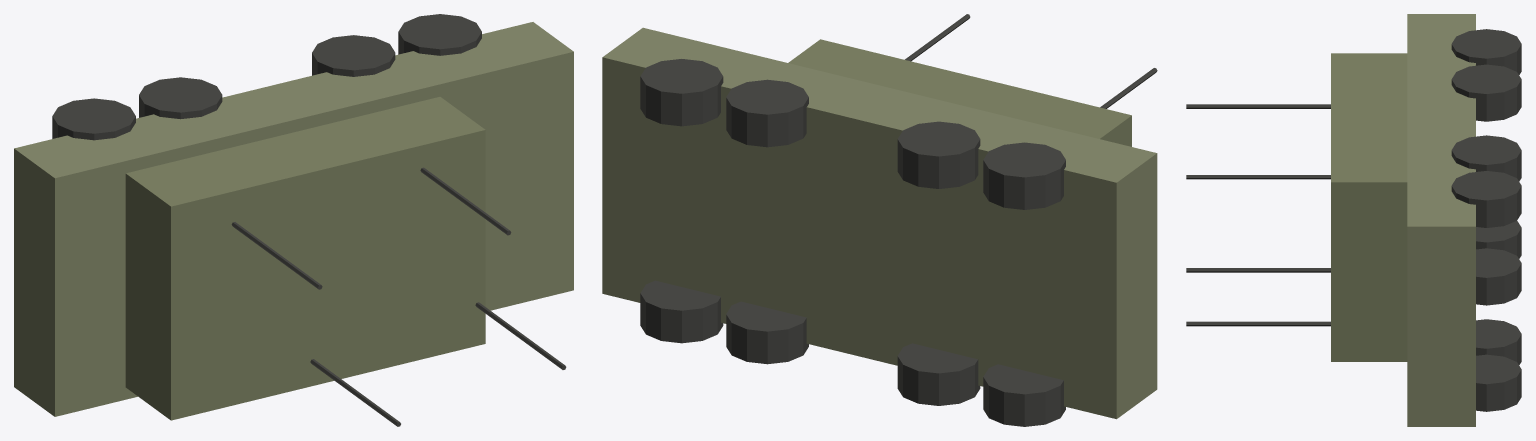
File: c2_veh.glb
3 renders of one model, left to right at view 1: azimuth 30°, elevation 25°; view 2: azimuth 150°, elevation 25°; view 3: azimuth 270°, elevation 25°, orthographic. The views are drawn at different scales.
Parts seen in each view (by area): view 1: geometry_0; view 2: geometry_0; view 3: geometry_0.
Part boxes in pixels (x1,y1,x2,y2): geometry_0: (14,14,573,426); geometry_0: (602,14,1157,426); geometry_0: (1186,14,1521,426).
Bounding box in the file's own units: 6.6 × 3.06 × 4.4.
